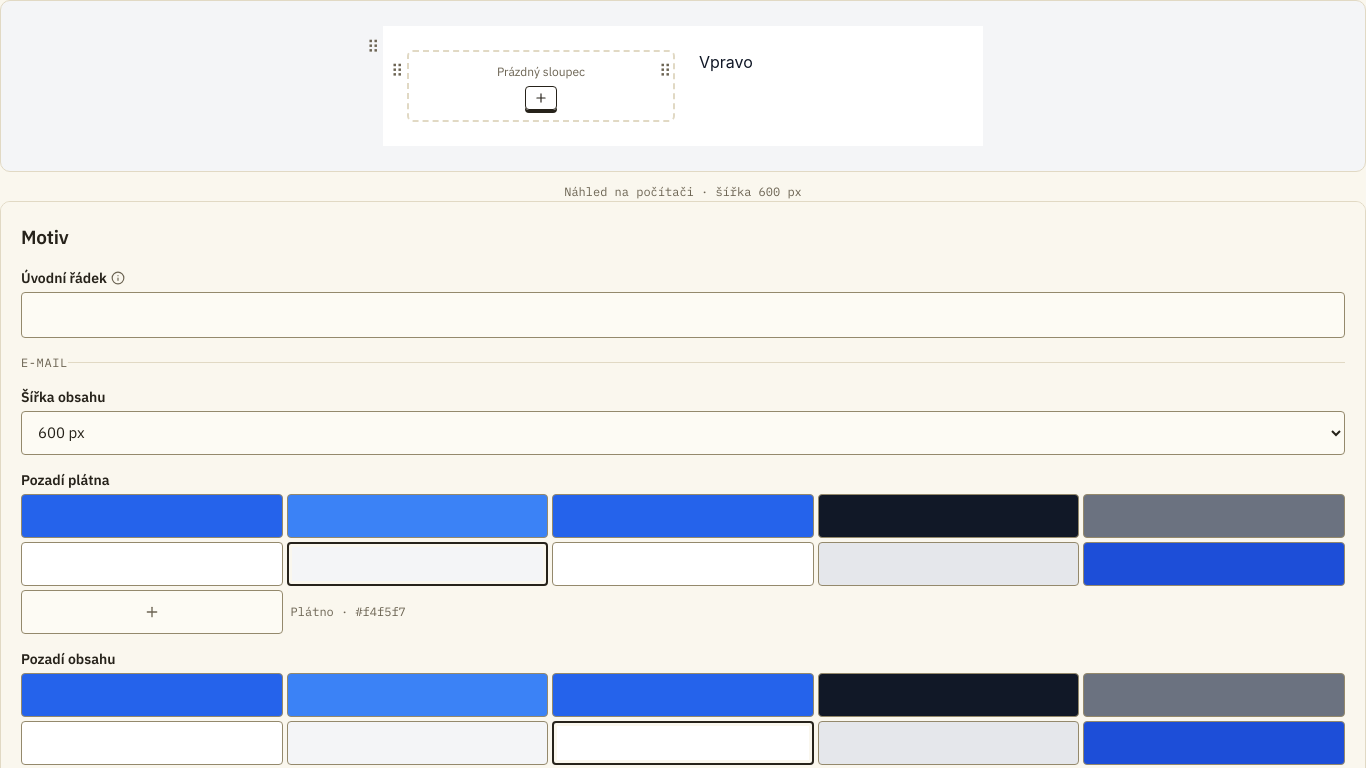
Test case: obsah ve sloupcích › nabídka v sloupci nenabízí, co tam podle gramatiky nepatří
Click the button with test id "insert-into-0.0.0" at coordinates (541, 98), box [525, 86, 557, 110]
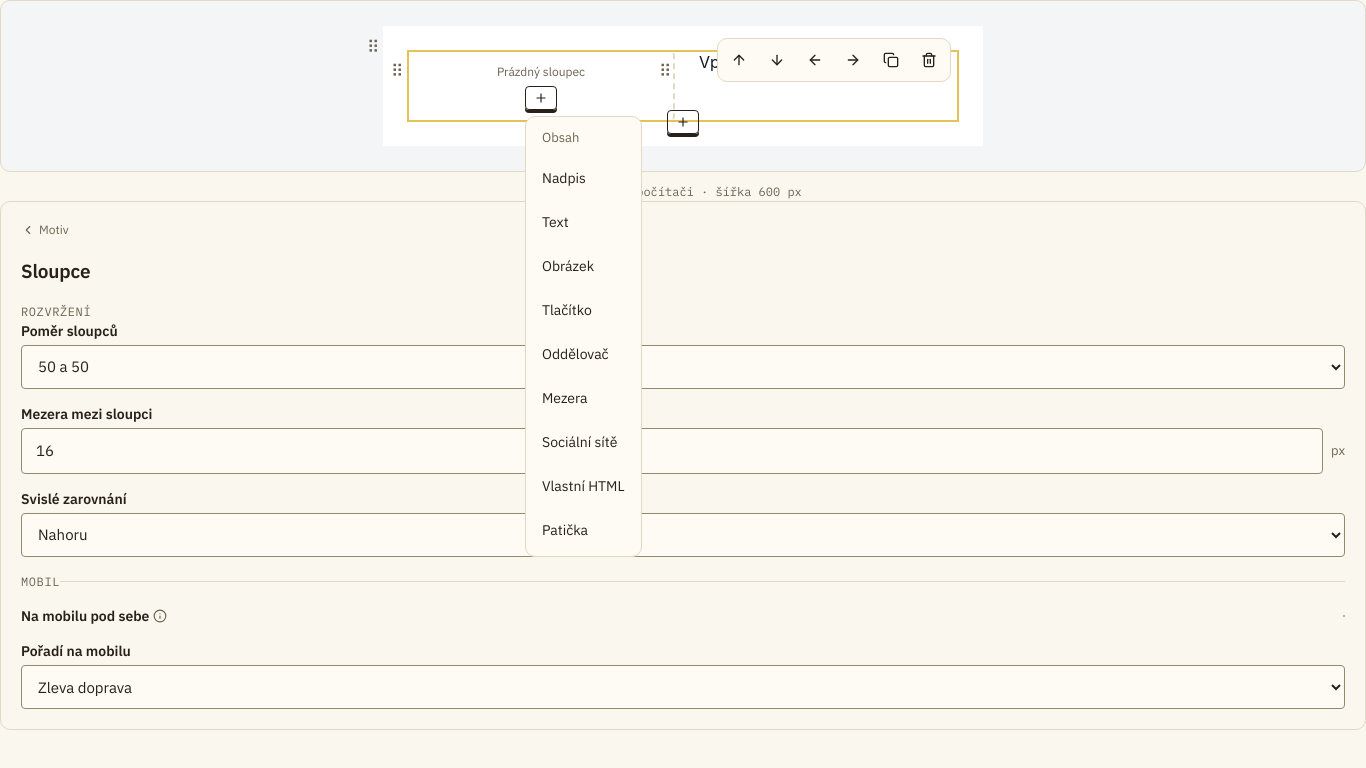
Result: the menu item "Obrázek" is shown at [542, 257, 594, 275]
